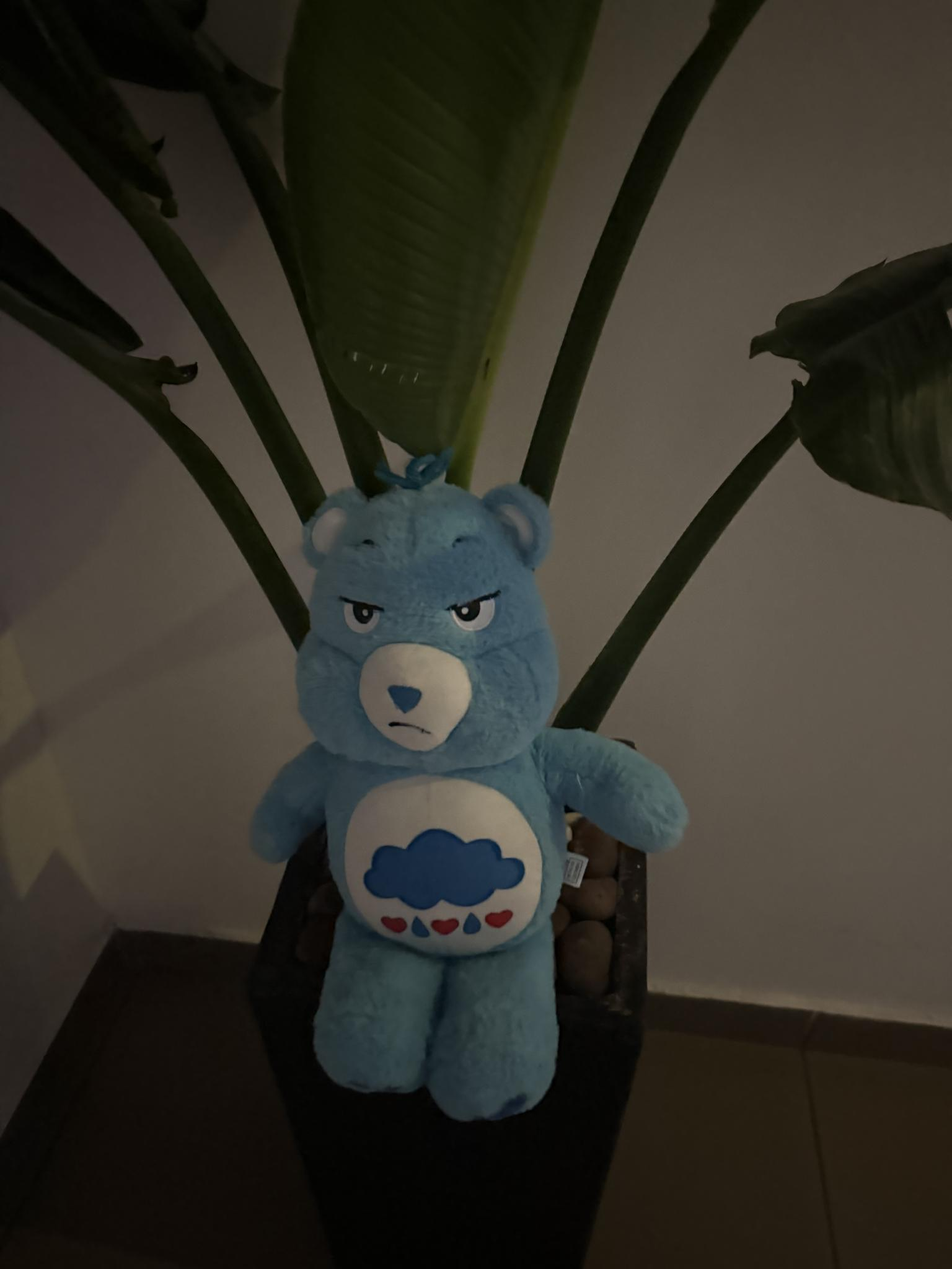peluche_Juan Jose: (242, 460, 693, 1131)
